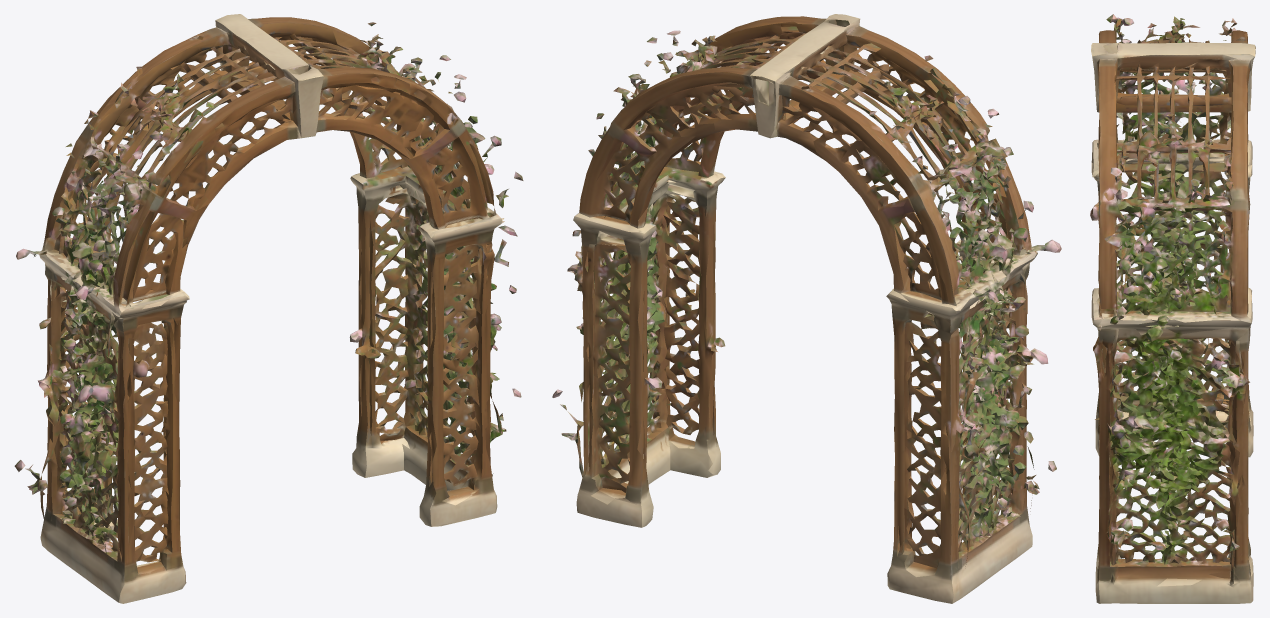
The model's file is unified--garden-arch.glb.
3 views of the same model, side by side, from view 1: azimuth 30°, elevation 25°; view 2: azimuth 150°, elevation 25°; view 3: azimuth 270°, elevation 25° (orthographic). The views are drawn at different scales.
Parts seen in each view (by area): view 1: garden-arch-0; view 2: garden-arch-0; view 3: garden-arch-0.
Boxes of the visible parts, left/top/right/bottom form: garden-arch-0: left=14, top=14, right=523, bottom=603; garden-arch-0: left=552, top=14, right=1061, bottom=603; garden-arch-0: left=1090, top=14, right=1255, bottom=603.
Bounding box in the file's own units: 2.47 × 2.5 × 0.8029.
Materials: 1 (1 with a texture image).
